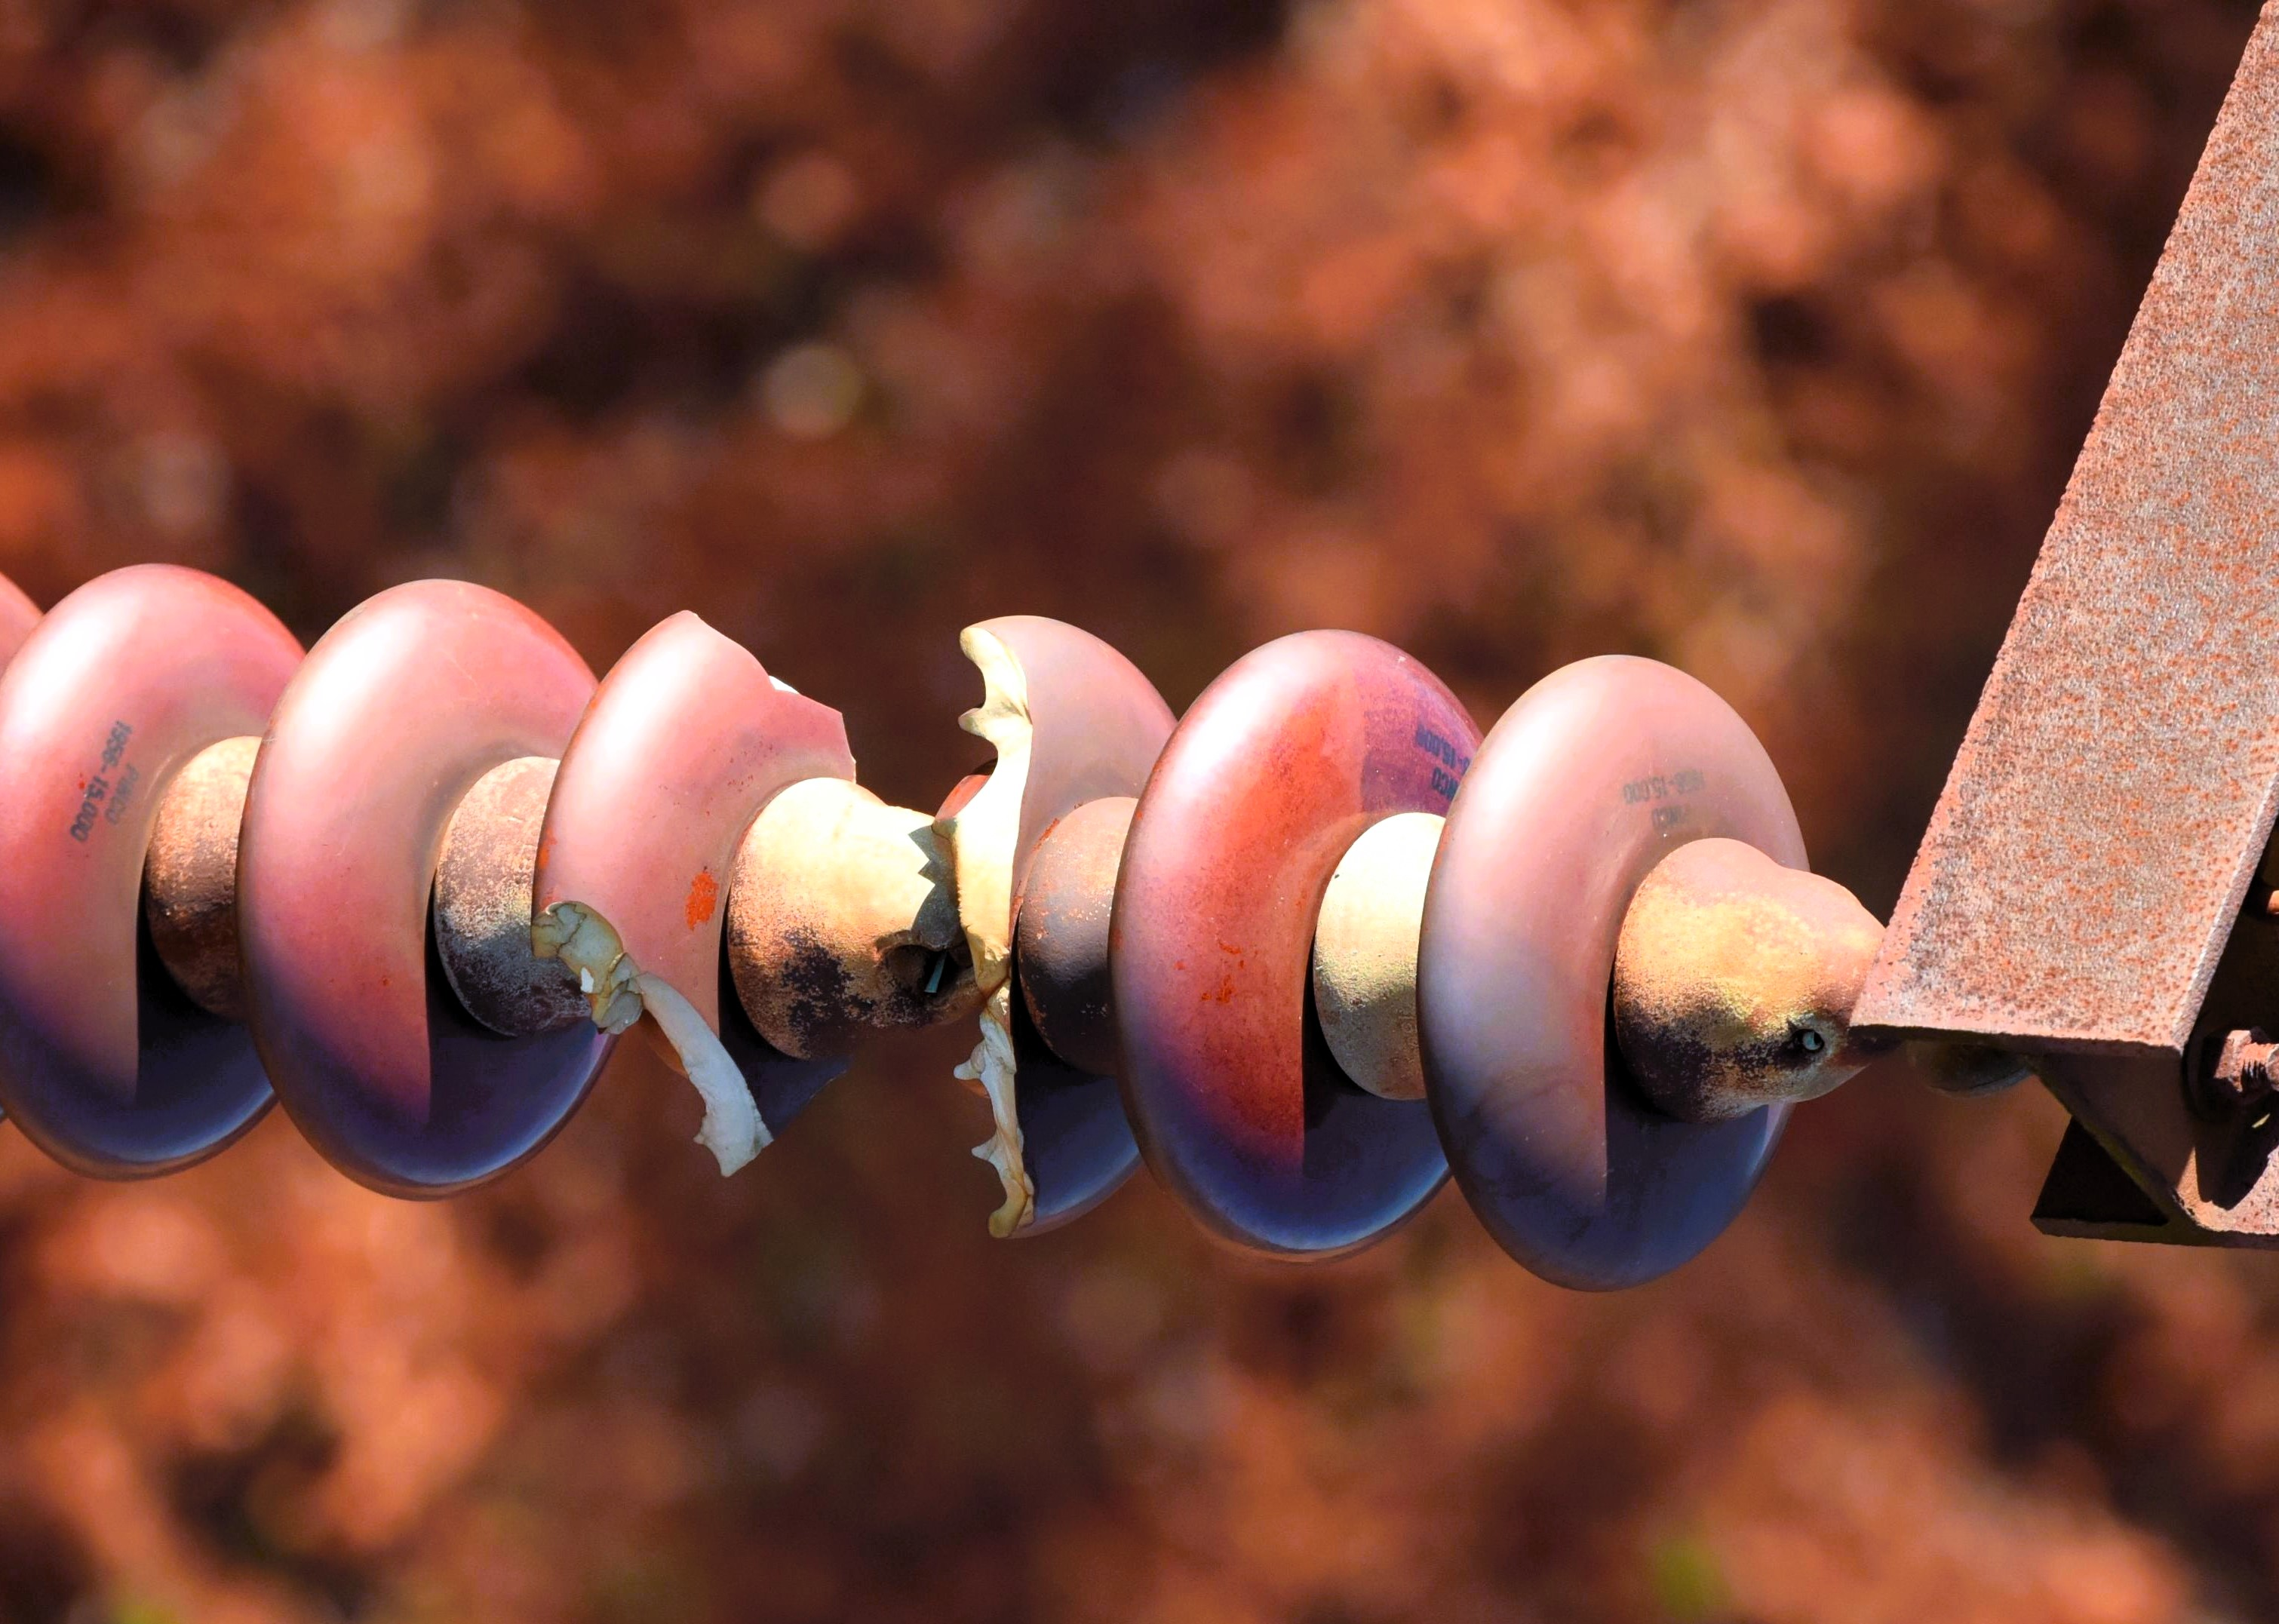insulator breakage: (506, 555, 856, 1241), (884, 575, 1123, 1295)
